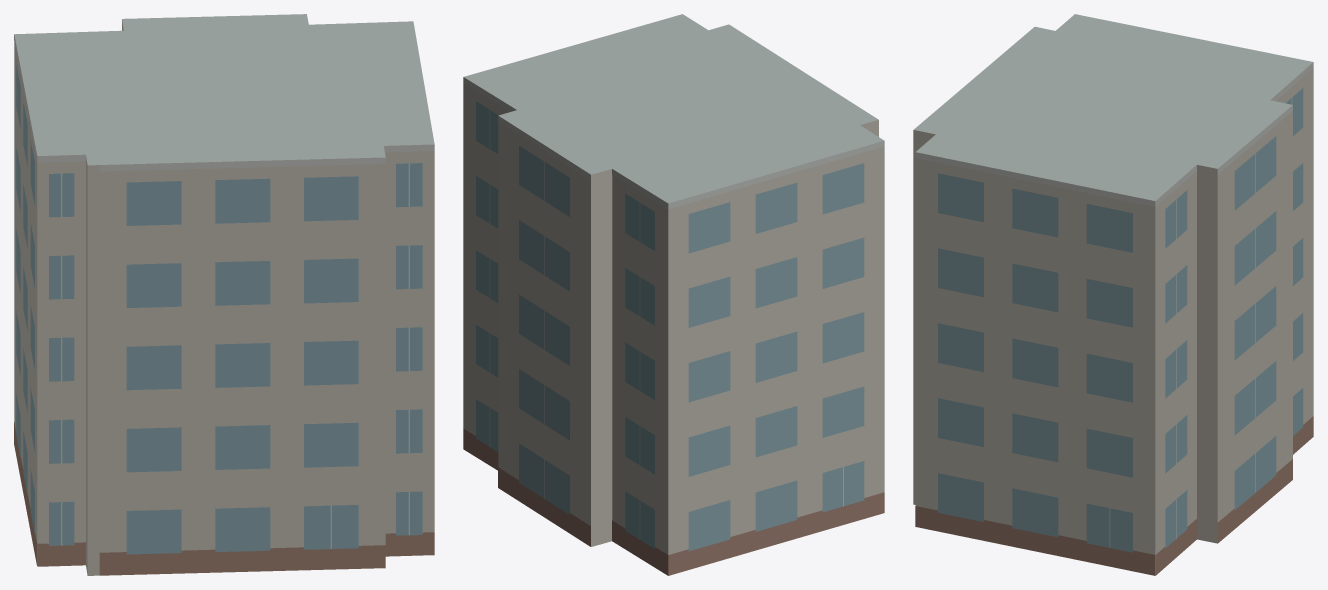
The model's file is survey-upis-32885230.glb.
3 views of the same model, side by side, from view 1: azimuth 30°, elevation 25°; view 2: azimuth 150°, elevation 25°; view 3: azimuth 270°, elevation 25° (orthographic). The views are drawn at different scales.
Visible parts, largest first — view 1: survey-upis-32885230.tmp; view 2: survey-upis-32885230.tmp; view 3: survey-upis-32885230.tmp.
Part boxes in pixels (x1,y1,x2,y2): survey-upis-32885230.tmp: [14, 14, 434, 575]; survey-upis-32885230.tmp: [463, 14, 884, 575]; survey-upis-32885230.tmp: [913, 14, 1313, 575].
Size of the model in its own units: 16.72 by 15.6 by 15.1.
